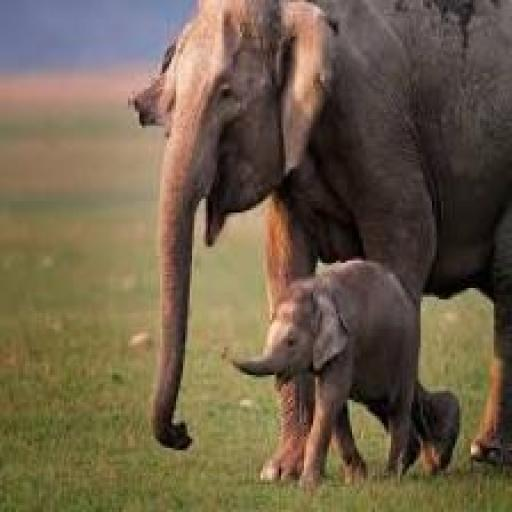Elephant: (128, 0, 512, 507)
